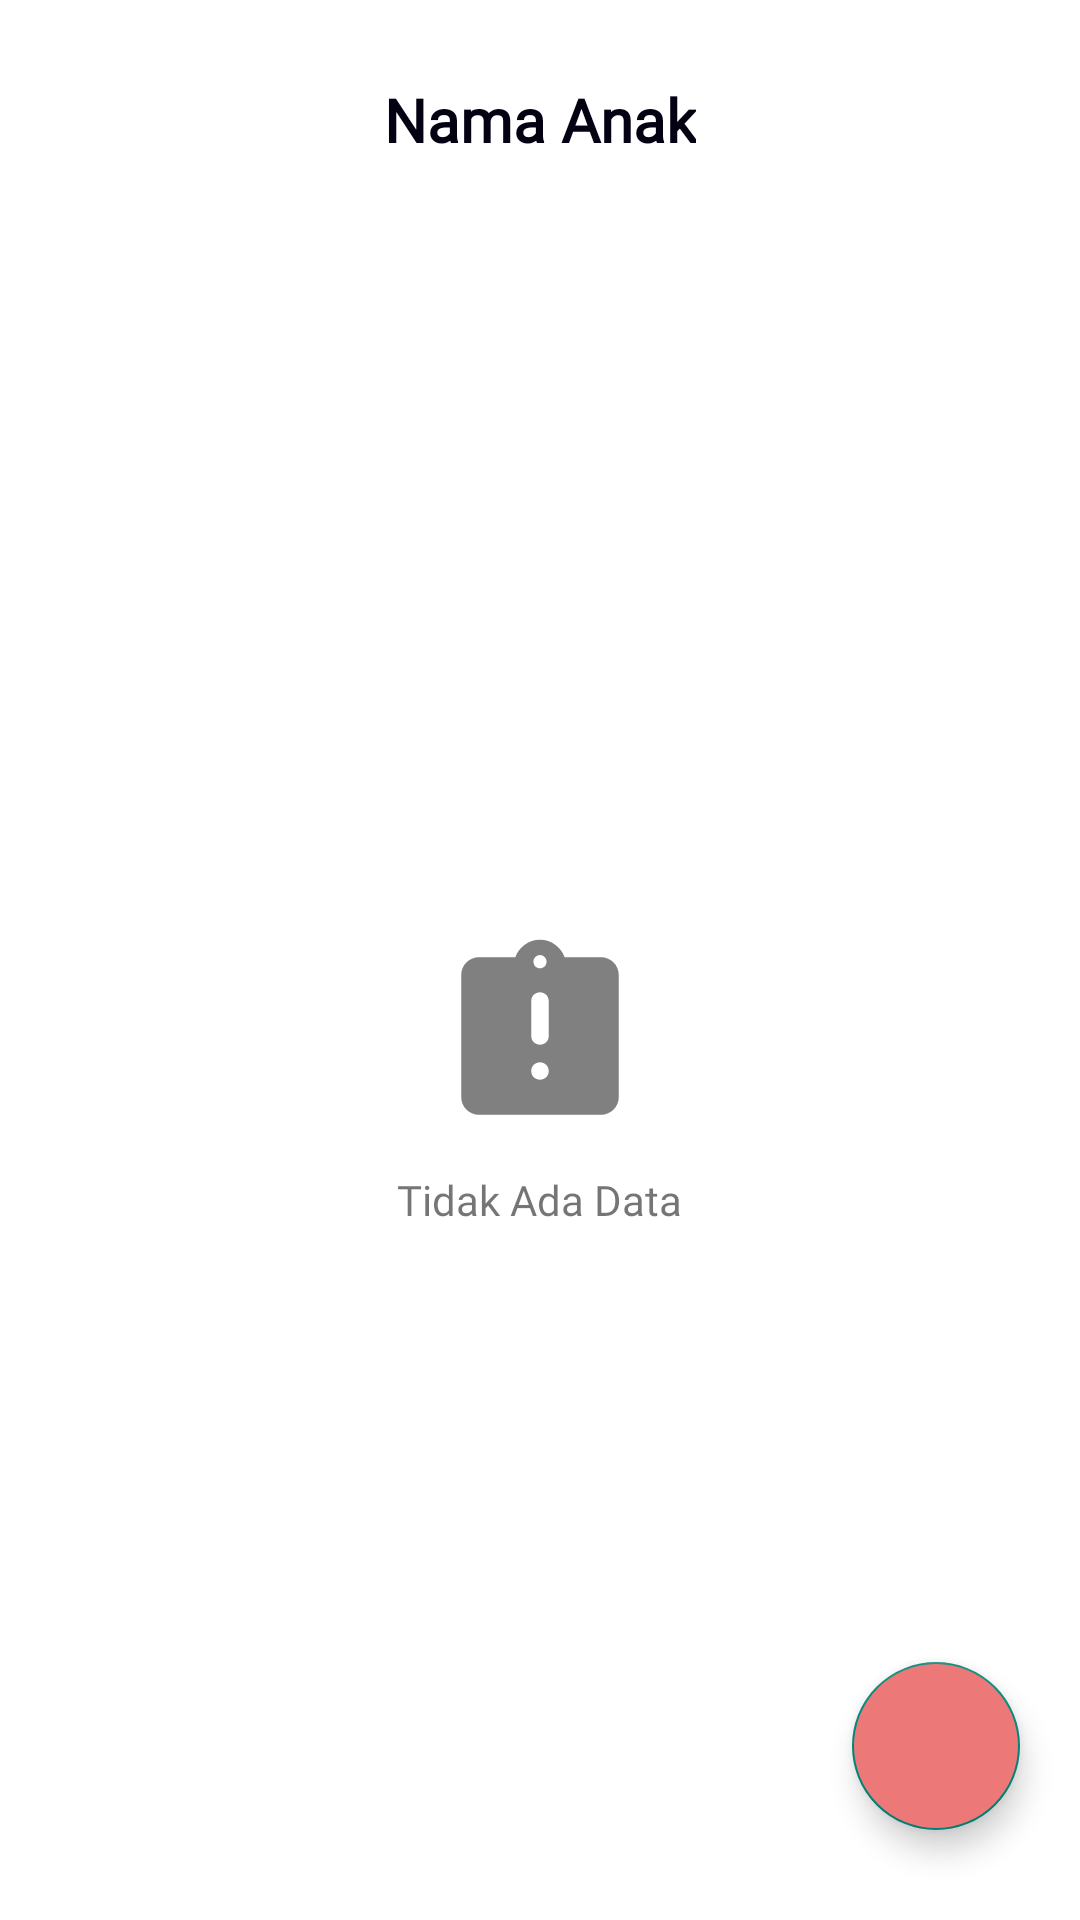

Icon bounding boxes for this 1080w x 1920h phone screenshot, format (x1, y1, x2, y2):
assignment late: (461, 939, 619, 1115)
